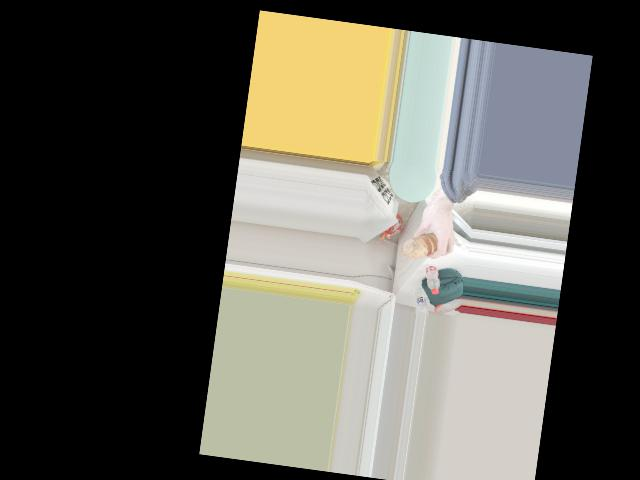sweet_potato: (407, 230, 438, 261)
